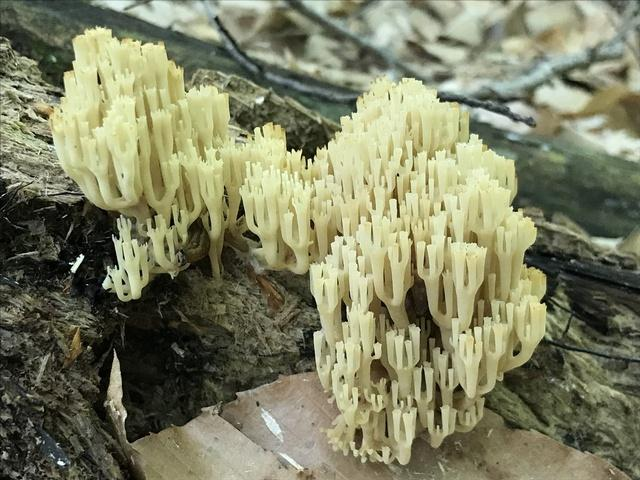Edible Mushroom: (47, 25, 549, 464), (47, 24, 241, 302)
